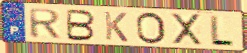B: (65, 8, 97, 42)
K: (103, 10, 130, 43)
L: (209, 14, 236, 48)
O: (135, 11, 168, 46)
R: (27, 8, 63, 40)
X: (169, 12, 204, 46)
